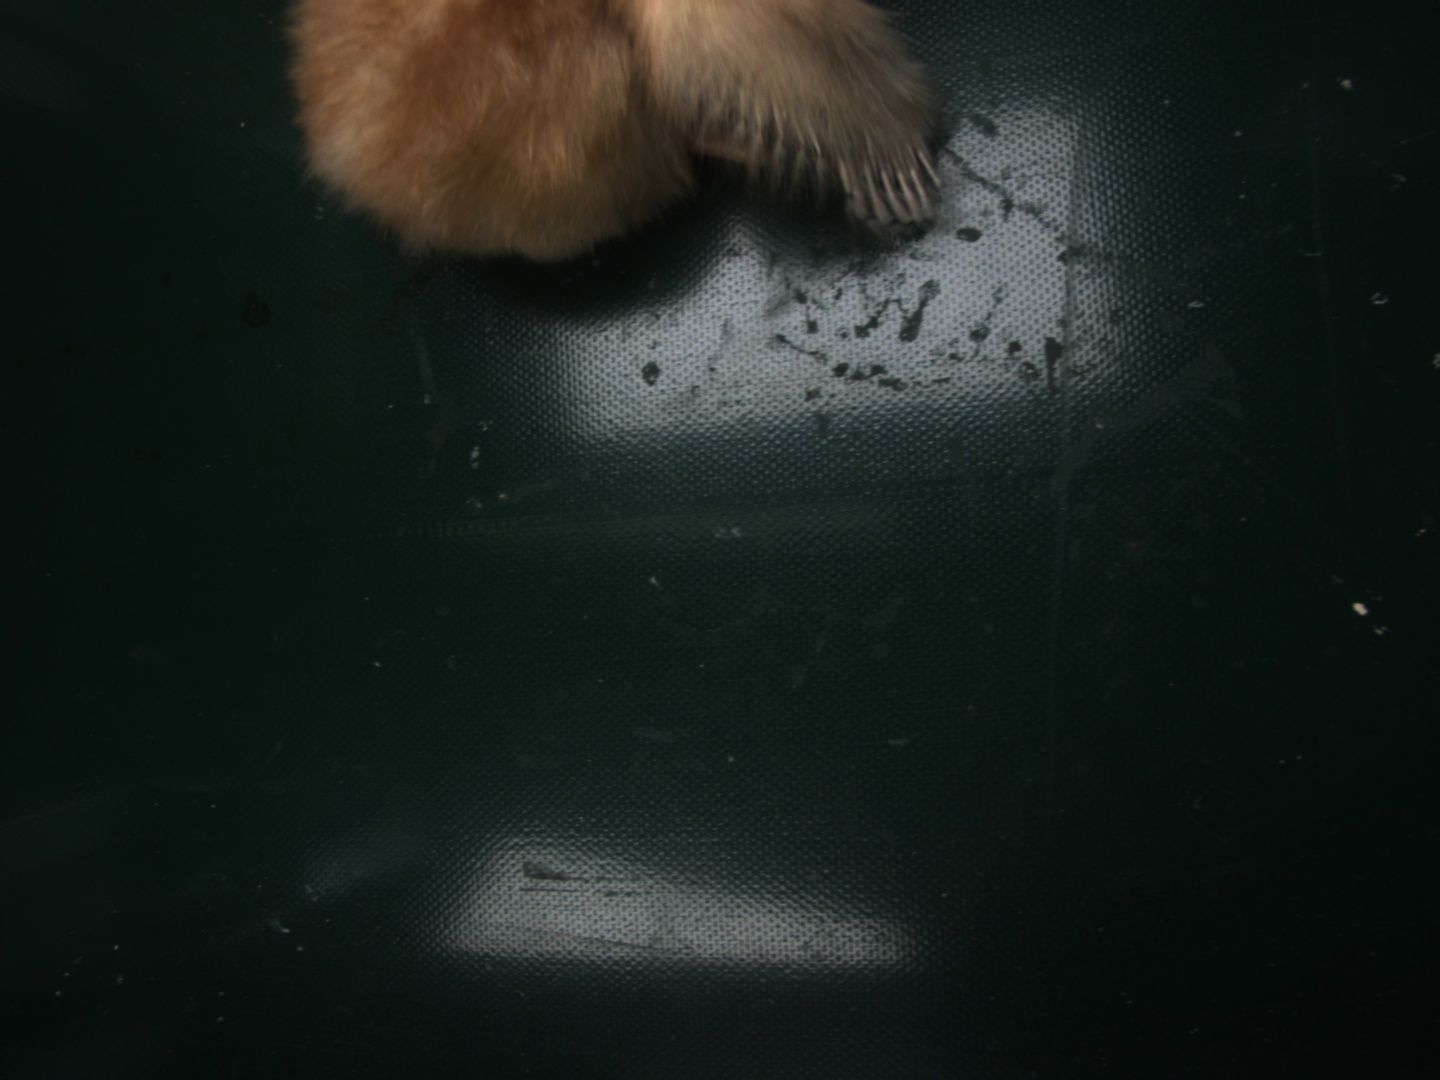female: (835, 135, 940, 225)
